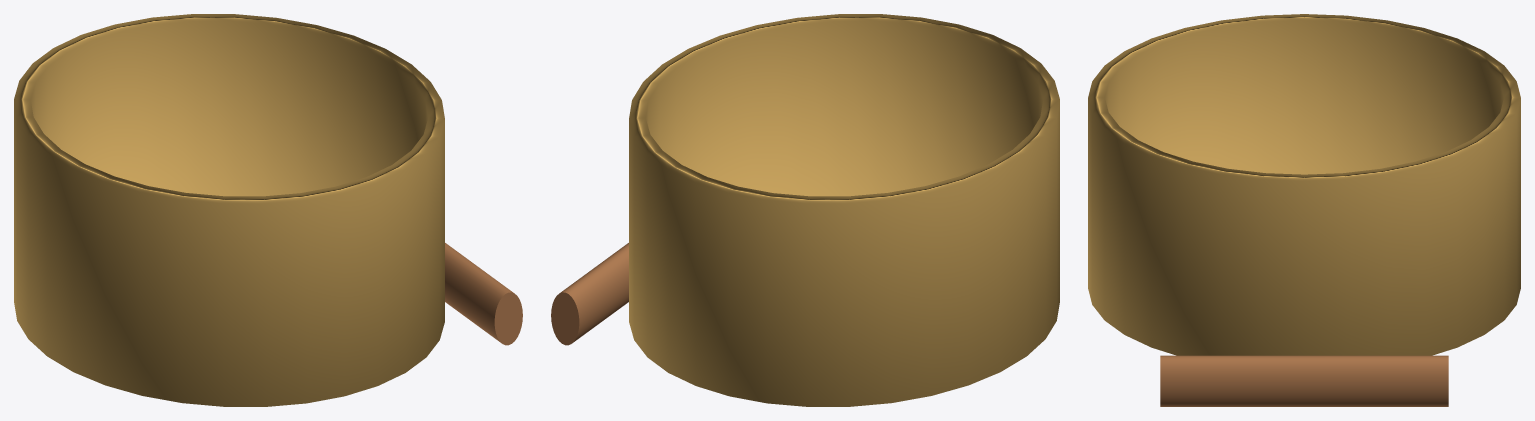
Rendered from wp-bol-chantant.glb.
The picture shows the model from 3 angles, left to right: view 1: azimuth 30°, elevation 25°; view 2: azimuth 150°, elevation 25°; view 3: azimuth 270°, elevation 25°; orthographic projection. The views are drawn at different scales.
Visible parts, largest first — view 1: wp-bol-chantant; view 2: wp-bol-chantant; view 3: wp-bol-chantant.
Part boxes in pixels (<box>): wp-bol-chantant: <box>14,14,522,406</box>; wp-bol-chantant: <box>551,14,1059,406</box>; wp-bol-chantant: <box>1088,14,1520,406</box>.
Bounding box in the file's own units: 0.2 × 0.11 × 0.2.
